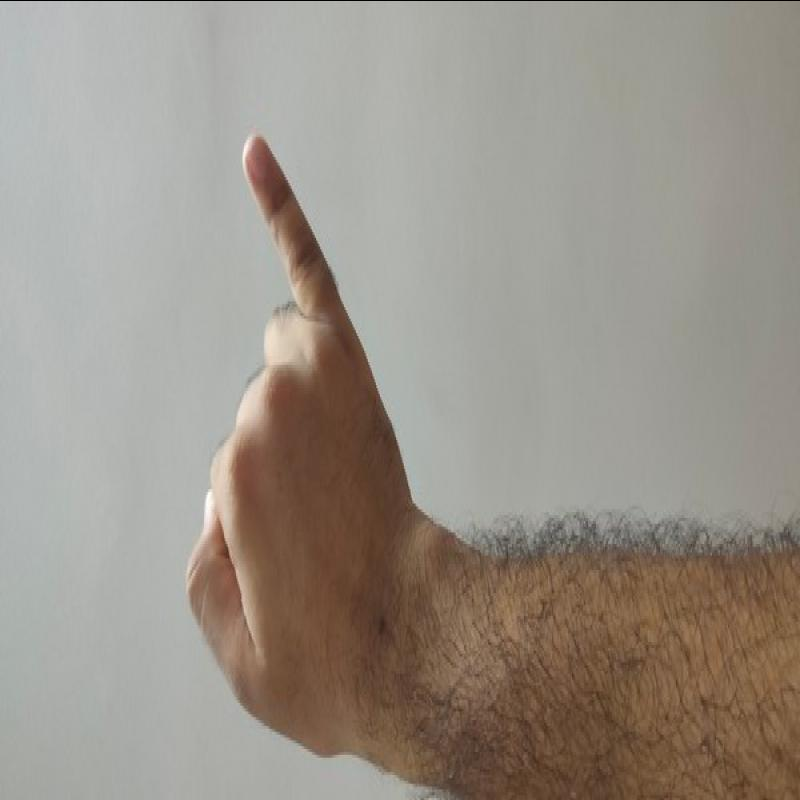Kartharee Mukham: (161, 124, 427, 758)
